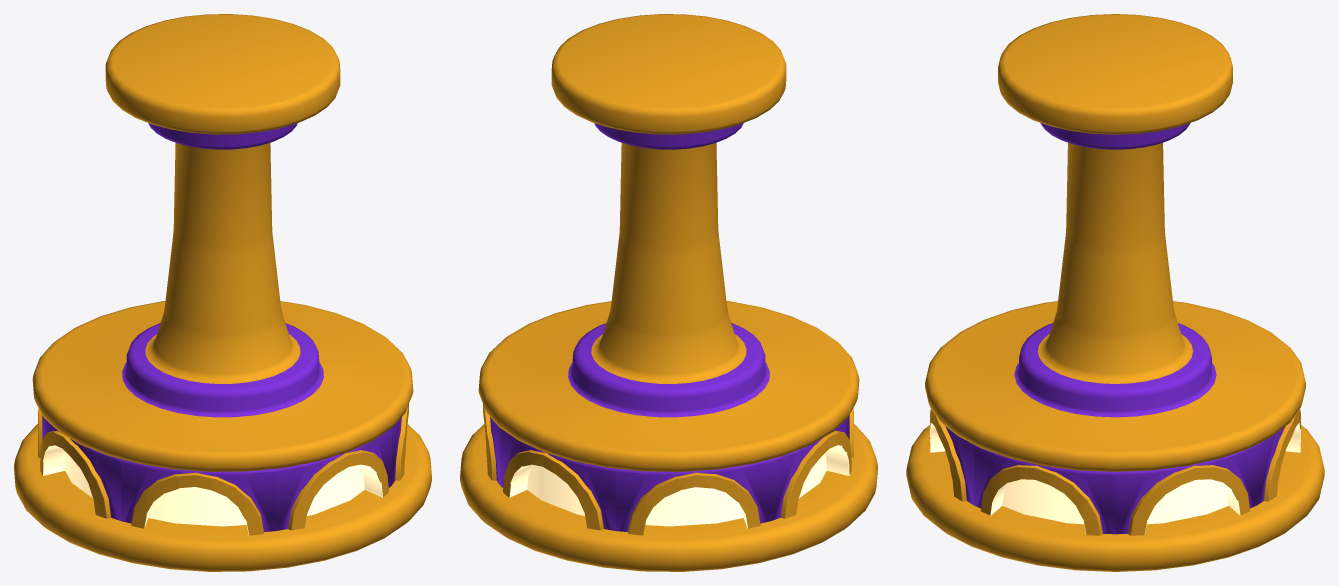
The model's file is pedestal.glb.
3 renders of one model, left to right at view 1: azimuth 30°, elevation 25°; view 2: azimuth 150°, elevation 25°; view 3: azimuth 270°, elevation 25°, orthographic.
Parts seen in each view (by area): view 1: pedestal; view 2: pedestal; view 3: pedestal.
Part boxes in pixels (box(x1,y1,x2,y2)): pedestal: box(14, 14, 431, 571); pedestal: box(460, 14, 877, 571); pedestal: box(906, 14, 1324, 571).
Bounding box in the file's own units: 0.89 × 1 × 0.89.
